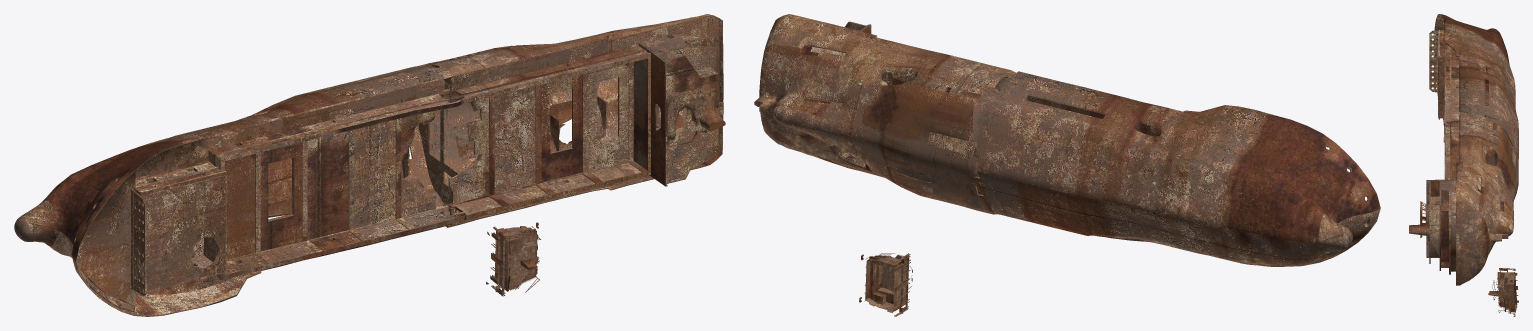
The model's file is Navio.fbx.
3 views of the same model, side by side, from view 1: azimuth 30°, elevation 25°; view 2: azimuth 150°, elevation 25°; view 3: azimuth 270°, elevation 25° (orthographic). The views are drawn at different scales.
Parts seen in each view (by area): view 1: BoatWreckBowSM, BoatWreckSternSM, FractureCargoShipPartASM; view 2: BoatWreckBowSM, BoatWreckSternSM, FractureCargoShipPartASM; view 3: BoatWreckSternSM, BoatWreckBowSM, FractureCargoShipPartASM.
Part boxes in pixels (<box>): BoatWreckBowSM: <box>14,63,461,316</box>; BoatWreckSternSM: <box>409,14,725,227</box>; FractureCargoShipPartASM: <box>486,222,540,296</box>; BoatWreckBowSM: <box>971,71,1380,266</box>; BoatWreckSternSM: <box>754,14,1015,214</box>; FractureCargoShipPartASM: <box>859,253,912,316</box>; BoatWreckSternSM: <box>1409,110,1518,285</box>; BoatWreckBowSM: <box>1429,14,1518,165</box>; FractureCargoShipPartASM: <box>1488,268,1518,316</box>.
Bounding box in the file's own units: 16661 × 6513 × 3750.
